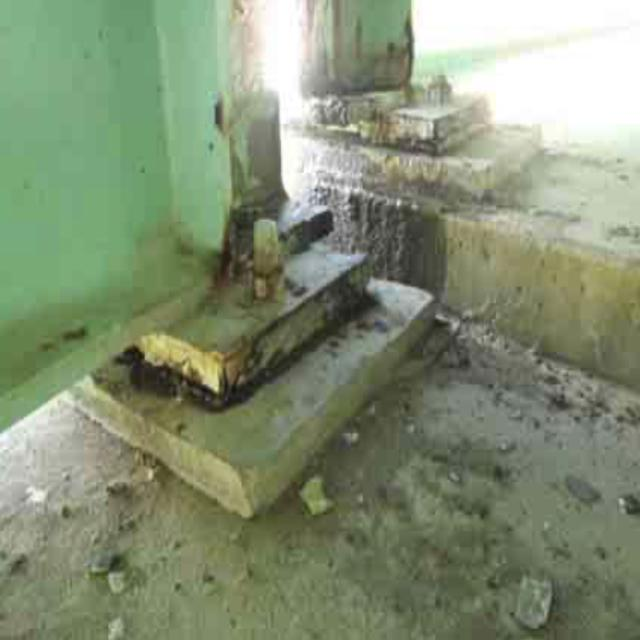corrosion: (139, 63, 380, 388)
